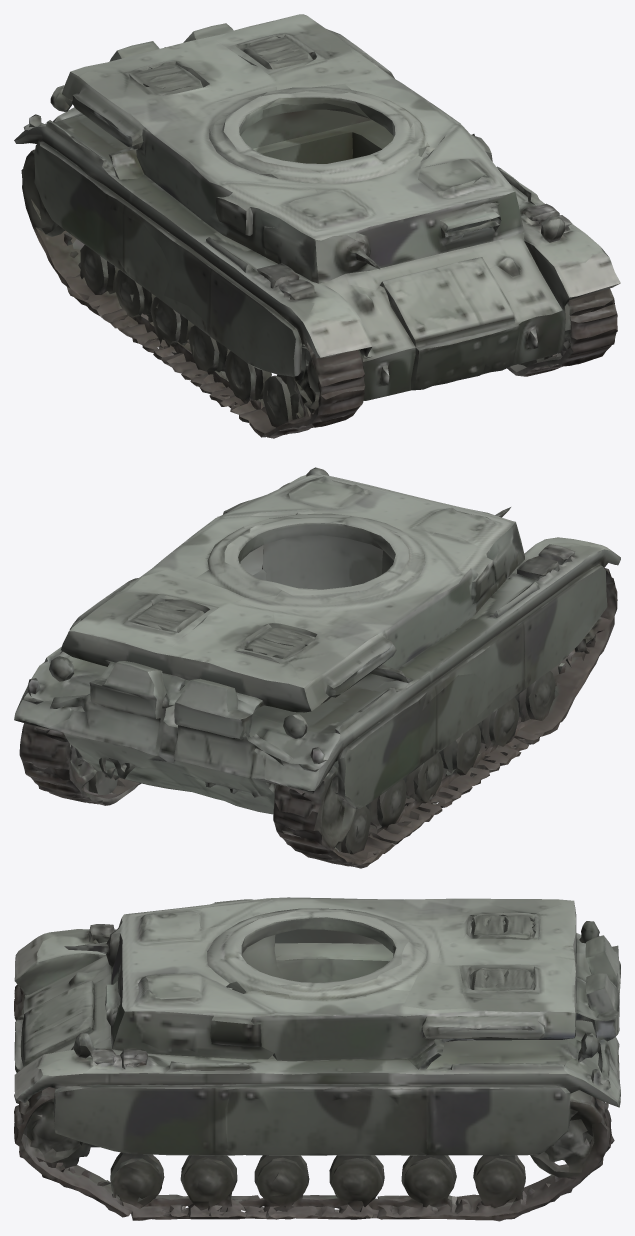
The model's file is heavy_hull_v5.glb.
The picture shows the model from 3 angles, top to bottom: view 1: azimuth 30°, elevation 25°; view 2: azimuth 150°, elevation 25°; view 3: azimuth 270°, elevation 25°; orthographic projection.
Parts seen in each view (by area): view 1: geometry_0; view 2: geometry_0; view 3: geometry_0.
Part boxes in pixels (x1,y1,x2,y2): geometry_0: (14,14,620,438); geometry_0: (14,467,620,868); geometry_0: (14,897,620,1221).
Size of the model in its own units: 6.5 by 4.1 by 10.95.
1 material, 1 textured.
